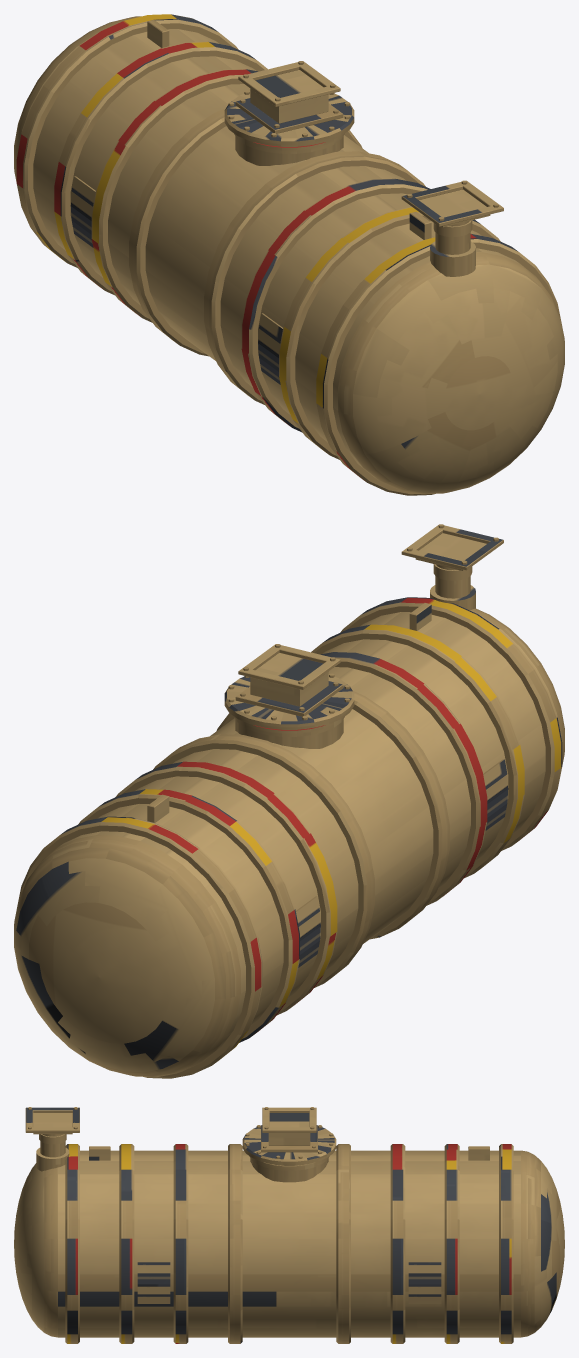
Rendered from gasoline.obj.
The picture shows the model from 3 angles, top to bottom: view 1: azimuth 30°, elevation 25°; view 2: azimuth 150°, elevation 25°; view 3: azimuth 270°, elevation 25°; orthographic projection. The views are drawn at different scales.
Visible parts, largest first — view 1: tank_shell, tank_ribs, tank_lid, label_gasoline_label, tank_fill_plate, tank_port_plate, tank_riser, tank_collar, tank_base_flange, tank_fill_throat, tank_port_throat, tank_fill_collar (+2 smaller); view 2: tank_shell, tank_ribs, tank_lid, label_gasoline_label, tank_fill_plate, tank_port_plate, tank_riser, tank_collar, tank_base_flange, tank_fill_throat, tank_port_throat, label_gasoline_band (+1 smaller); view 3: tank_shell, tank_ribs, label_gasoline_label, tank_lid, tank_fill_plate, tank_port_plate, tank_collar, tank_fill_throat, tank_base_flange, tank_port_throat, tank_riser, tank_fill_collar (+4 smaller).
Boxes of the visible parts, box(x1,y1,x2,y2) form: tank_shell: box(14, 16, 564, 494); tank_ribs: box(16, 14, 559, 495); tank_lid: box(224, 91, 354, 146); label_gasoline_label: box(70, 176, 282, 384); tank_fill_plate: box(401, 180, 503, 226); tank_port_plate: box(238, 61, 340, 106); tank_riser: box(250, 71, 328, 123); tank_collar: box(235, 136, 343, 165); tank_base_flange: box(235, 98, 343, 133); tank_fill_throat: box(419, 189, 490, 227); tank_port_throat: box(255, 70, 322, 97); tank_fill_collar: box(430, 241, 475, 276); tank_shell: box(14, 608, 564, 1077); tank_ribs: box(19, 597, 562, 1078); tank_lid: box(224, 674, 354, 729); label_gasoline_label: box(296, 759, 508, 967); tank_fill_plate: box(401, 524, 503, 570); tank_port_plate: box(238, 644, 340, 689); tank_riser: box(250, 654, 328, 706); tank_collar: box(235, 719, 343, 748); tank_base_flange: box(235, 681, 343, 716); tank_fill_throat: box(415, 533, 486, 570); tank_port_throat: box(256, 653, 323, 680); label_gasoline_band: box(234, 716, 344, 736); tank_shell: box(14, 1150, 564, 1337); tank_ribs: box(65, 1144, 513, 1343); label_gasoline_label: box(137, 1262, 441, 1303); tank_lid: box(242, 1125, 336, 1165); tank_fill_plate: box(25, 1107, 79, 1132); tank_port_plate: box(262, 1107, 316, 1132); tank_collar: box(250, 1158, 328, 1182); tank_fill_throat: box(33, 1113, 72, 1134); tank_base_flange: box(261, 1125, 317, 1152); tank_port_throat: box(269, 1113, 309, 1127); tank_riser: box(268, 1133, 310, 1145); tank_fill_collar: box(36, 1148, 69, 1171).
Bounding box in the file's own units: 2.53 × 3.03 × 6.99.
